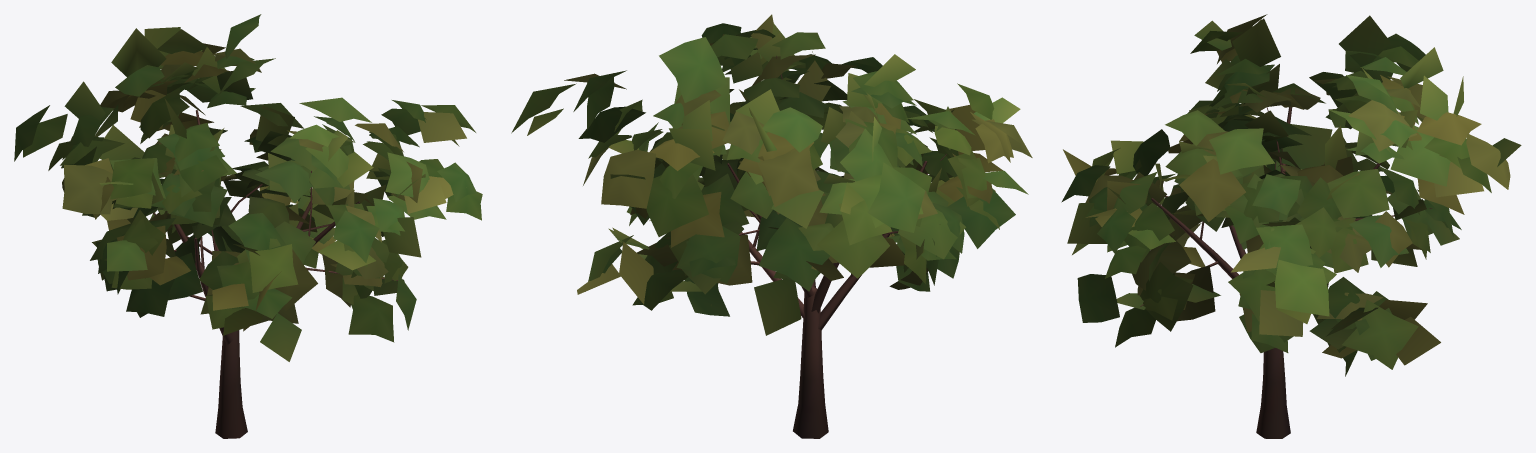
The model's file is cherry-a.lod1.glb.
3 views of the same model, side by side, from view 1: azimuth 30°, elevation 25°; view 2: azimuth 150°, elevation 25°; view 3: azimuth 270°, elevation 25° (orthographic). The views are drawn at different scales.
Bounding box in the file's own units: 6.77 × 5.49 × 5.87.
